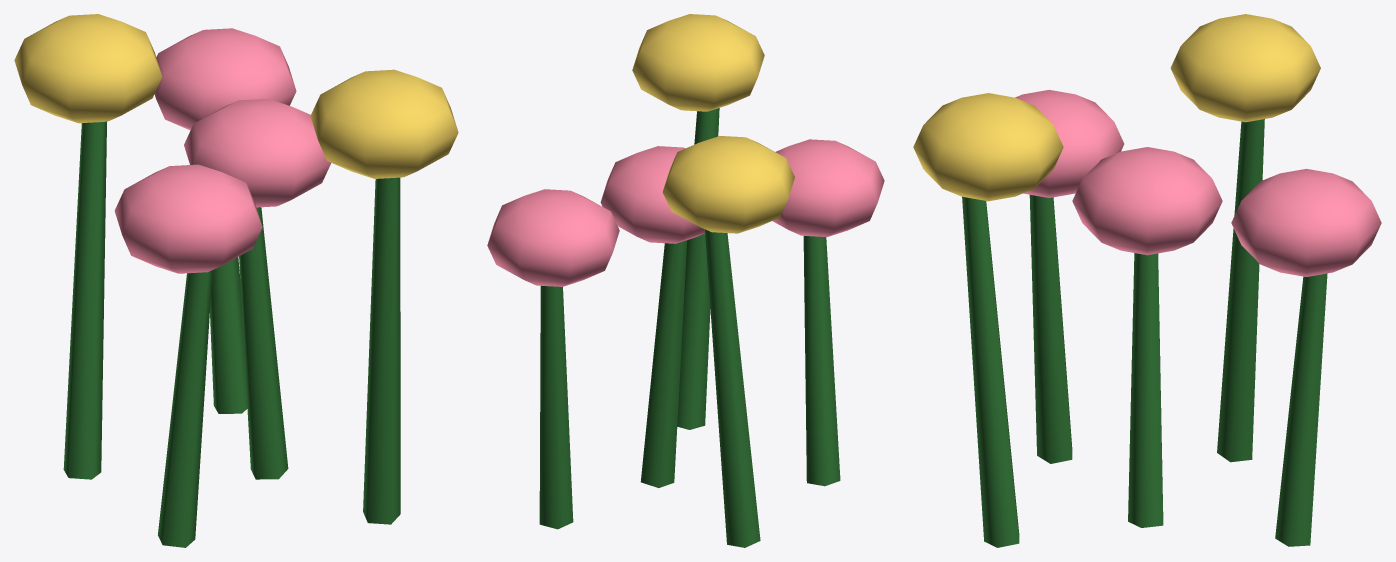
File: natural_flower_patch.glb
The picture shows the model from 3 angles, left to right: view 1: azimuth 30°, elevation 25°; view 2: azimuth 150°, elevation 25°; view 3: azimuth 270°, elevation 25°; orthographic projection. The views are drawn at different scales.
Visible parts, largest first — view 1: flower_bloom_2, flower_bloom_1, flower_bloom_3, flower_stem_3, flower_stem_1, flower_bloom_0, flower_bloom_4, flower_stem_2, flower_stem_0, flower_stem_4; view 2: flower_bloom_1, flower_bloom_4, flower_bloom_3, flower_stem_3, flower_bloom_2, flower_stem_2, flower_stem_0, flower_stem_4, flower_bloom_0, flower_stem_1; view 3: flower_bloom_4, flower_bloom_0, flower_bloom_1, flower_bloom_3, flower_stem_1, flower_stem_3, flower_stem_0, flower_stem_4, flower_stem_2, flower_bloom_2.
Boxes of the visible parts, x1,y1,x2,y2 form: flower_bloom_2: (114,164,262,273); flower_bloom_1: (310,69,458,178); flower_bloom_3: (14,14,162,123); flower_stem_3: (63,121,106,479); flower_stem_1: (363,177,400,524); flower_bloom_0: (184,98,331,207); flower_bloom_4: (154,28,296,130); flower_stem_2: (158,270,212,547); flower_stem_0: (239,207,288,479); flower_stem_4: (210,257,247,413); flower_bloom_1: (632,14,764,111); flower_bloom_4: (487,189,619,286); flower_bloom_3: (662,136,794,233); flower_stem_3: (705,229,760,547); flower_bloom_2: (772,139,884,236); flower_stem_2: (803,236,840,486); flower_stem_0: (640,240,687,487); flower_stem_4: (539,286,573,529); flower_bloom_0: (600,146,704,243); flower_stem_1: (677,108,719,429); flower_bloom_4: (1231,168,1381,276); flower_bloom_0: (1072,147,1222,255); flower_bloom_1: (913,93,1063,201); flower_bloom_3: (1170,14,1320,122); flower_stem_1: (962,196,1019,547); flower_stem_3: (1217,119,1264,462); flower_stem_0: (1128,253,1163,527); flower_stem_4: (1275,273,1327,546); flower_stem_2: (1029,195,1072,463); flower_bloom_2: (1015,89,1124,197).
Bounding box in the file's own units: 0.4843 × 0.6914 × 0.6725.
